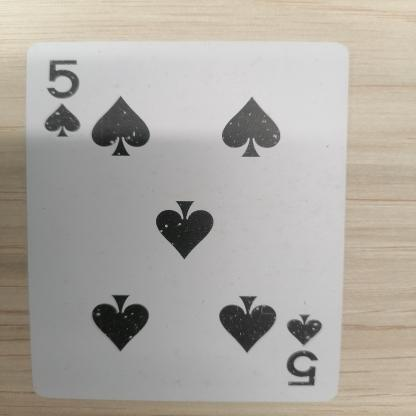5S: (31, 60, 102, 150), (282, 310, 336, 393)
